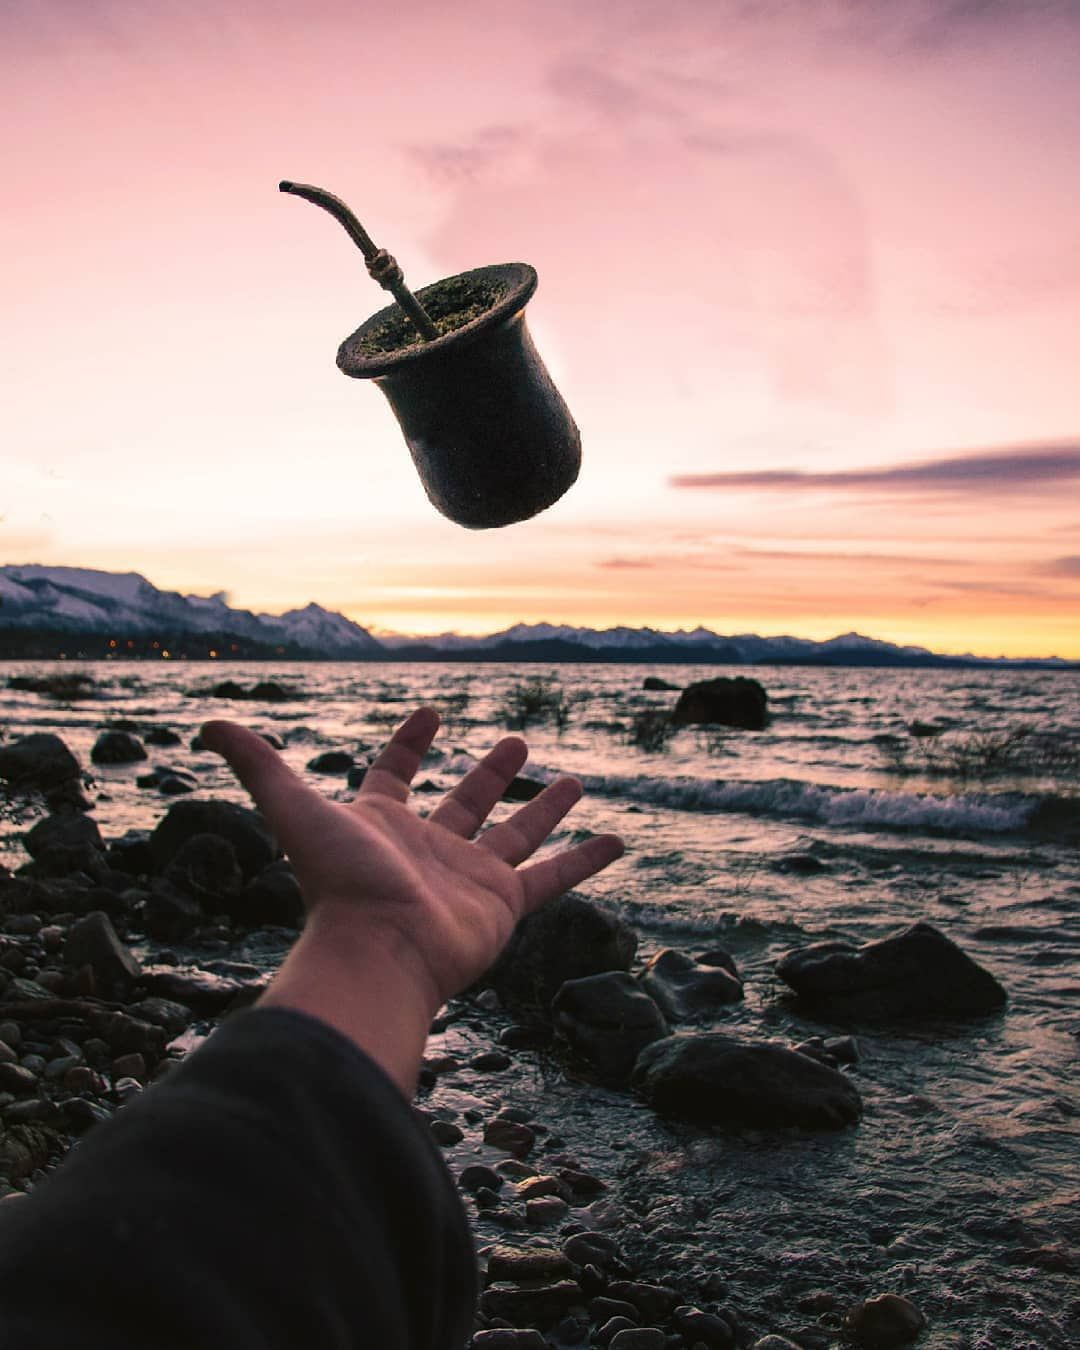calabaza: (269, 164, 604, 542)
mate: (271, 166, 606, 544)
